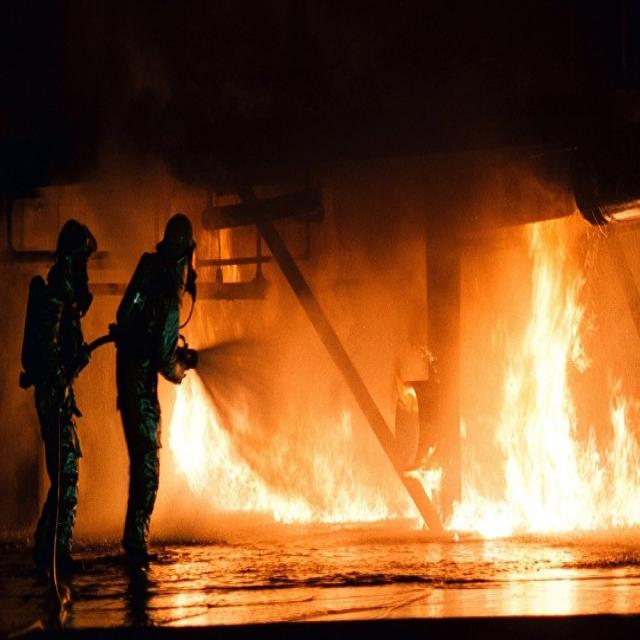Fire: (153, 331, 640, 544)
